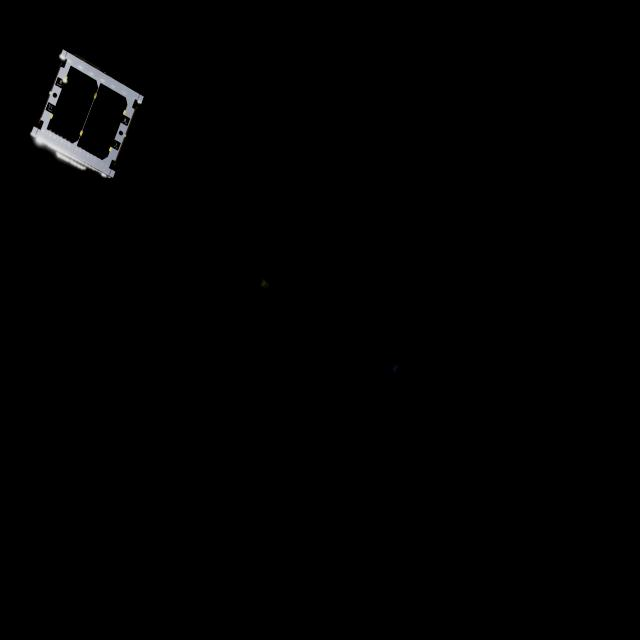medium_debris: (23, 48, 146, 183)
